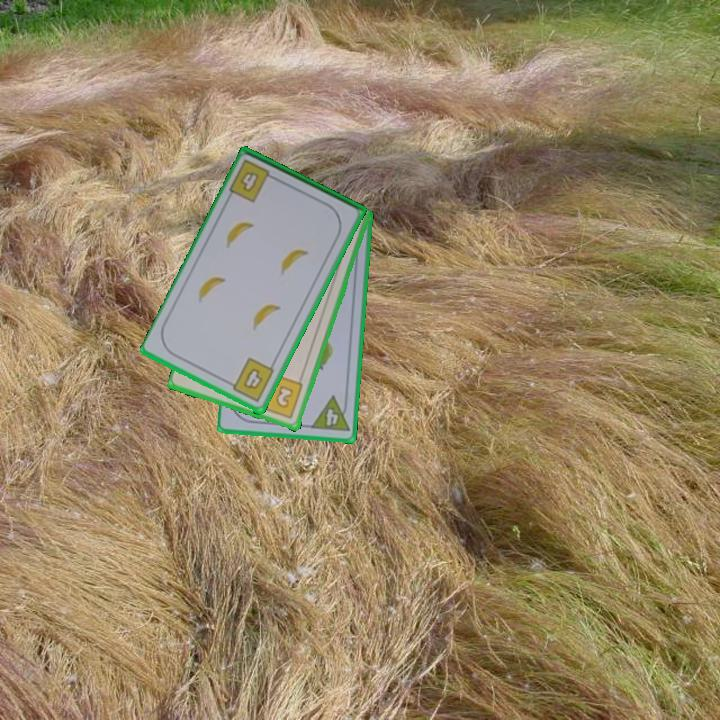2b: (256, 373, 306, 422)
4b: (224, 355, 277, 405), (237, 168, 262, 196)
4p: (308, 393, 352, 434)
